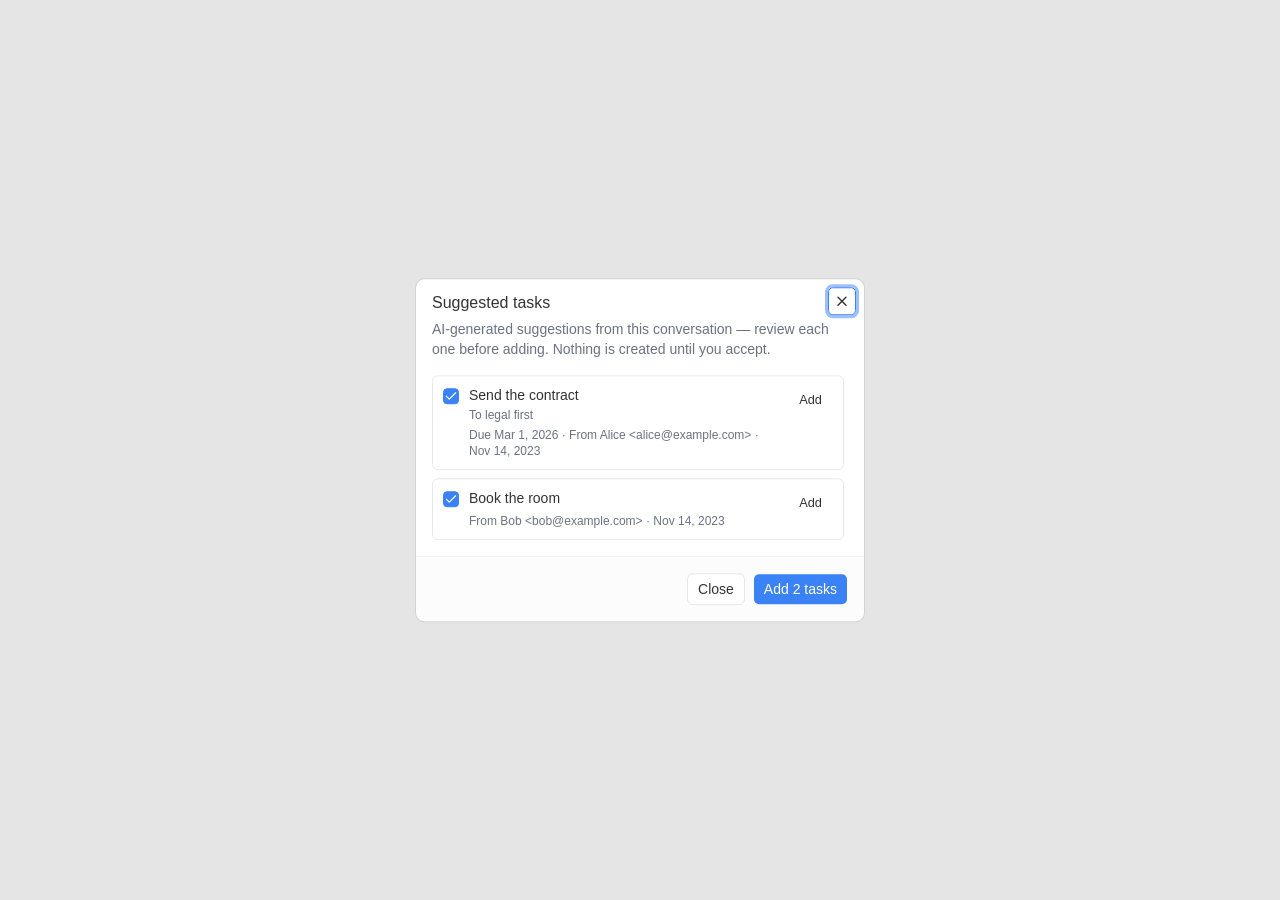
Test case: TaskExtractionDialog accept path › toasts once per batch when several unavailable results come back
Check: the text "Send the contract" is shown, box 469,387 -> 579,403
Click the button with test id "task-extraction-accept" at (800, 589), box 753,573 -> 848,605
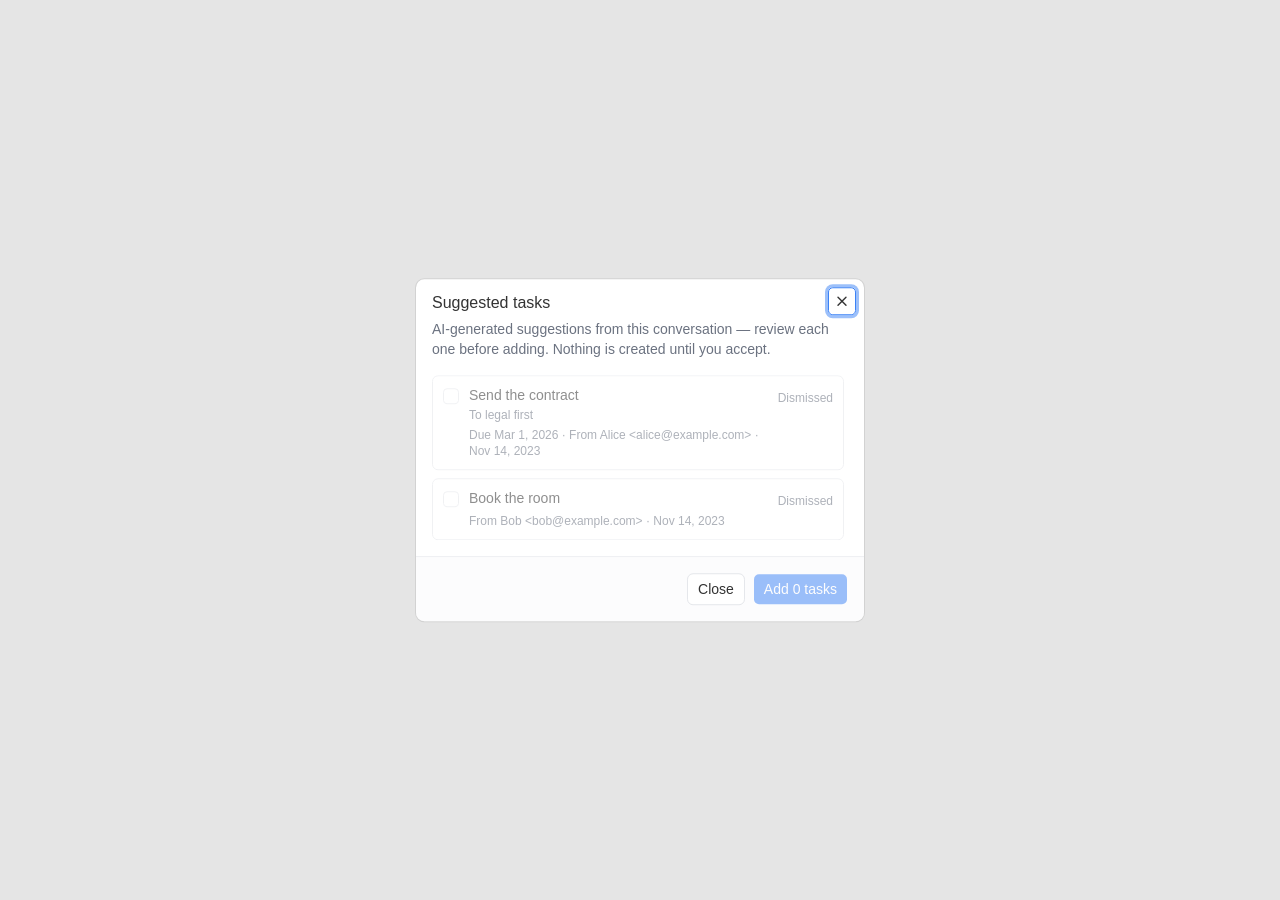
Check: the text with test id "task-suggestion-state-0" reads "Dismissed", box 778,391 -> 833,405
Check: the text with test id "task-suggestion-state-1" reads "Dismissed", box 778,494 -> 833,508
Check: the button with test id "task-extraction-accept" reads "Add 0 tasks", box 753,573 -> 848,605
